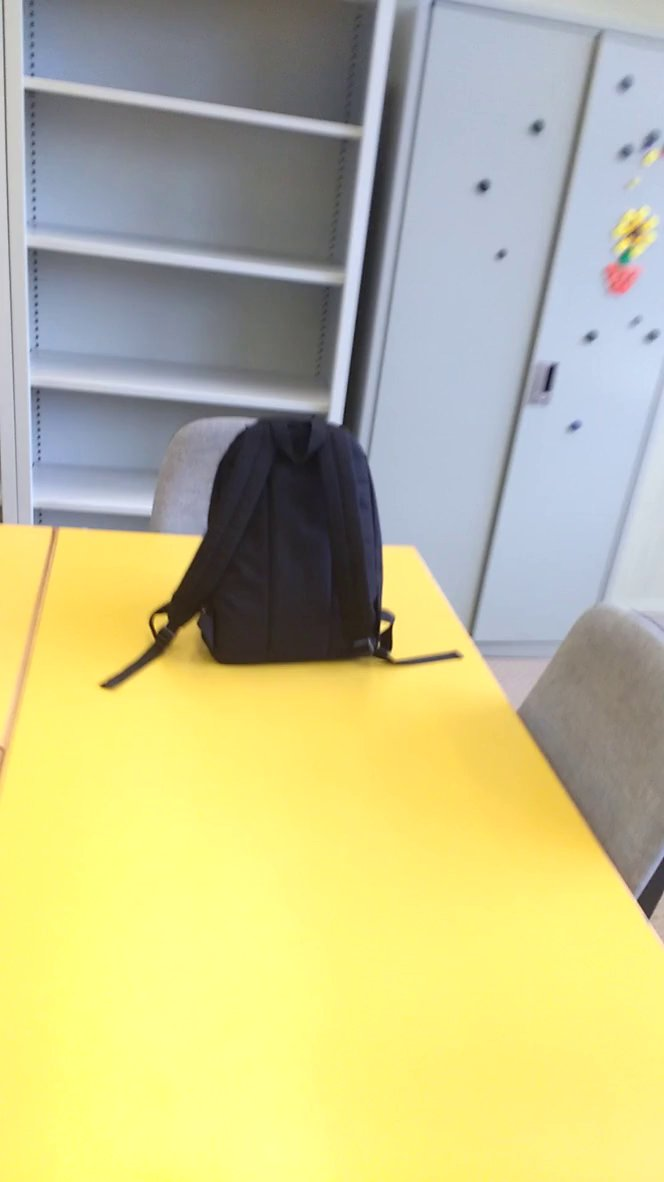bag: (96, 408, 471, 694)
chair: (485, 587, 664, 918)
